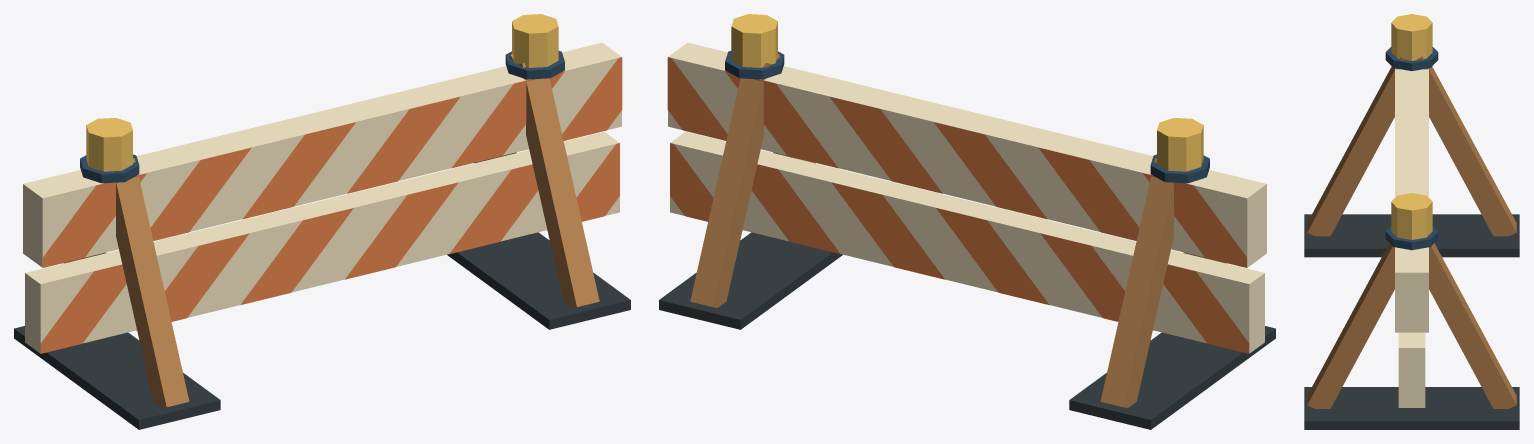
Rendered from construction-barrier.glb.
The picture shows the model from 3 angles, left to right: view 1: azimuth 30°, elevation 25°; view 2: azimuth 150°, elevation 25°; view 3: azimuth 270°, elevation 25°; orthographic projection. The views are drawn at different scales.
Visible parts, largest first — view 1: construction-barrier; view 2: construction-barrier; view 3: construction-barrier.
Part boxes in pixels (<box>): construction-barrier: <box>14,14,630,429</box>; construction-barrier: <box>659,14,1275,429</box>; construction-barrier: <box>1304,14,1519,429</box>.
Size of the model in its own units: 3.05 by 1.25 by 1.14.
Materials: 1 (1 with a texture image).
